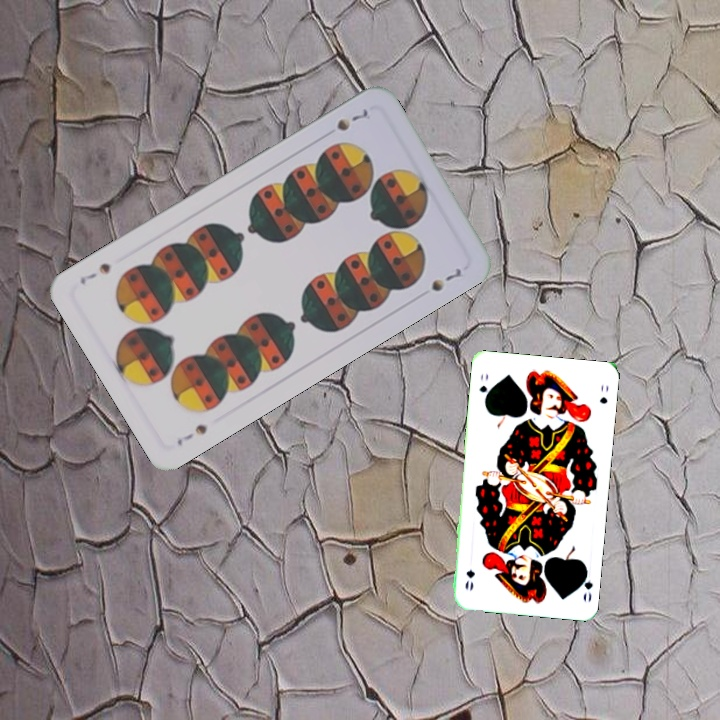GO: (575, 564, 596, 605), (475, 369, 492, 406)
S7: (332, 104, 371, 134), (172, 420, 210, 449)
